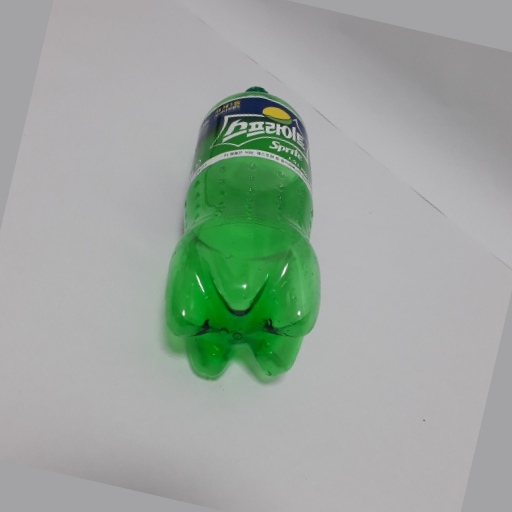Plastic_0: (168, 84, 324, 384)
